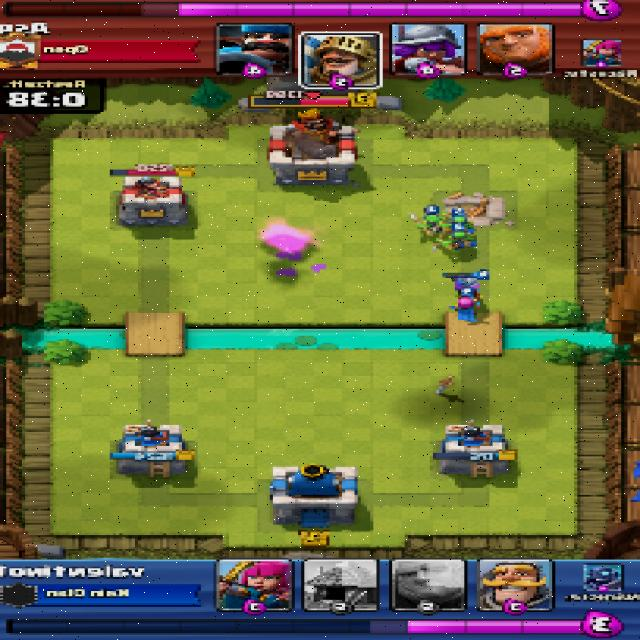Player-Archer: (449, 300, 482, 320)
Player-Musketeer: (450, 274, 482, 296)
Player-SpearGoblin: (411, 212, 443, 238), (442, 233, 475, 250), (444, 214, 474, 231)
